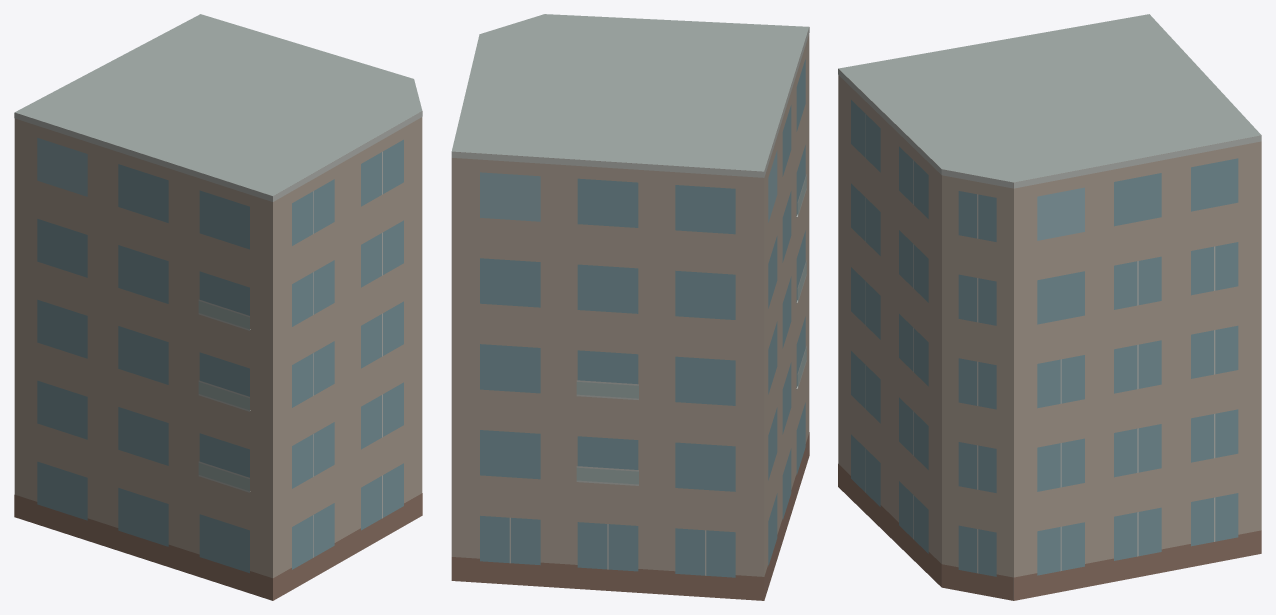
The model's file is survey-upis-32861295.glb.
3 renders of one model, left to right at view 1: azimuth 30°, elevation 25°; view 2: azimuth 150°, elevation 25°; view 3: azimuth 270°, elevation 25°, orthographic. The views are drawn at different scales.
Visible parts, largest first — view 1: survey-upis-32861295.tmp; view 2: survey-upis-32861295.tmp; view 3: survey-upis-32861295.tmp.
Boxes of the visible parts, <box> form: survey-upis-32861295.tmp: <box>14,14,422,600</box>; survey-upis-32861295.tmp: <box>451,14,809,600</box>; survey-upis-32861295.tmp: <box>838,14,1261,600</box>.
Size of the model in its own units: 14.44 by 16.71 by 15.34.
